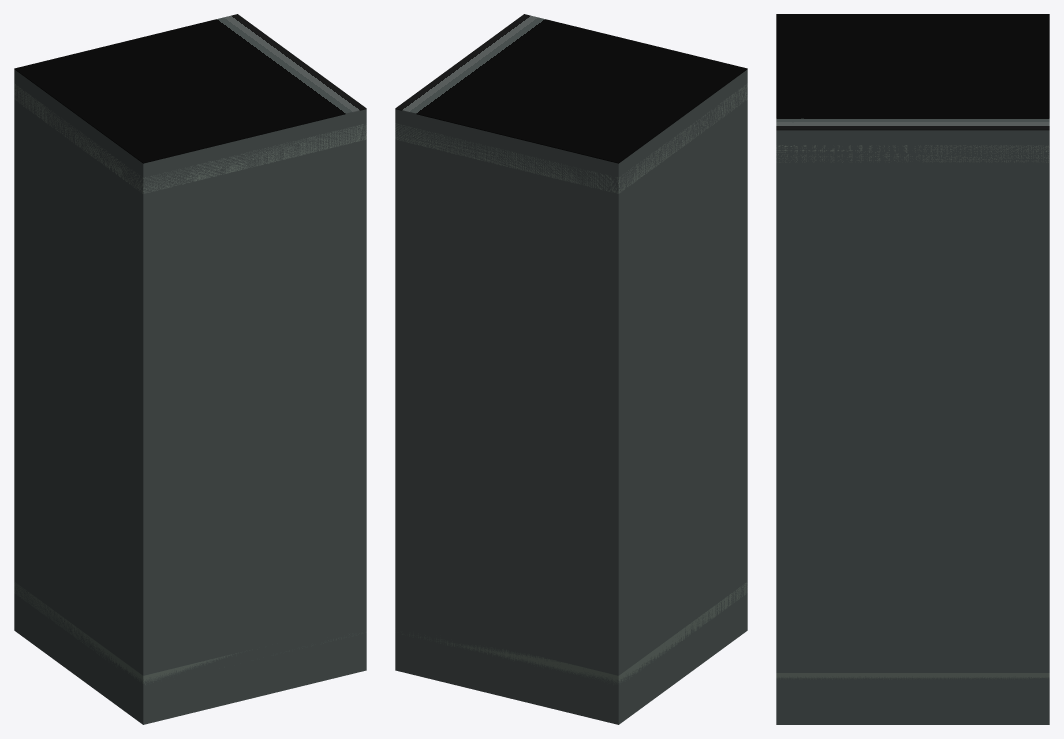
Rendered from CMU3DInteriorVehicleVanBack2.glb.
3 views of the same model, side by side, from view 1: azimuth 30°, elevation 25°; view 2: azimuth 150°, elevation 25°; view 3: azimuth 270°, elevation 25° (orthographic). The views are drawn at different scales.
Visible parts, largest first — view 1: cabin bulkhead, cabin bulkhead source finish, upper armor trim, lower armor trim; view 2: cabin bulkhead, cabin bulkhead source finish, upper armor trim, lower armor trim; view 3: cabin bulkhead, cabin bulkhead source finish, lower armor trim, upper armor trim.
Boxes of the visible parts, left/top/right/bottom form: cabin bulkhead: left=14, top=69, right=366, bottom=724; cabin bulkhead source finish: left=14, top=14, right=366, bottom=163; upper armor trim: left=14, top=83, right=366, bottom=193; lower armor trim: left=14, top=582, right=366, bottom=684; cabin bulkhead: left=395, top=69, right=747, bottom=724; cabin bulkhead source finish: left=395, top=14, right=747, bottom=163; upper armor trim: left=395, top=83, right=747, bottom=193; lower armor trim: left=401, top=582, right=747, bottom=684; cabin bulkhead: left=776, top=130, right=1049, bottom=724; cabin bulkhead source finish: left=776, top=14, right=1049, bottom=130; lower armor trim: left=776, top=673, right=1049, bottom=679; upper armor trim: left=776, top=145, right=1049, bottom=162.
Size of the model in its own units: 1 by 2.4 by 1.
Materials: 4 (1 with a texture image).
